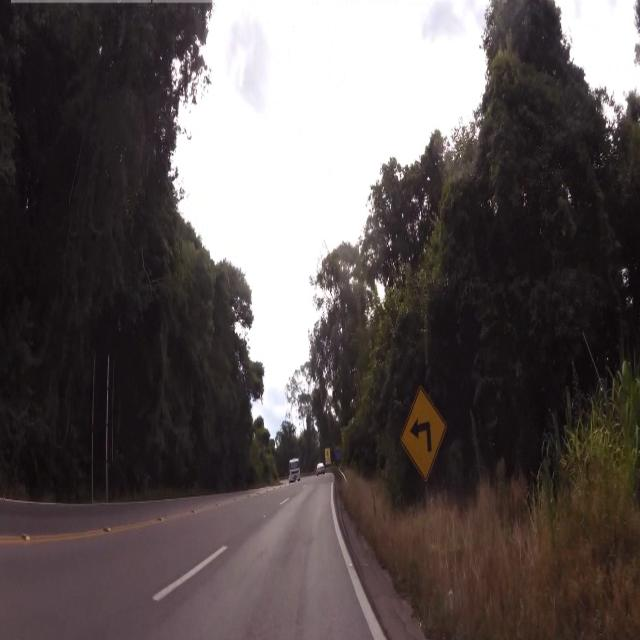A-1a: (400, 381, 453, 484)
